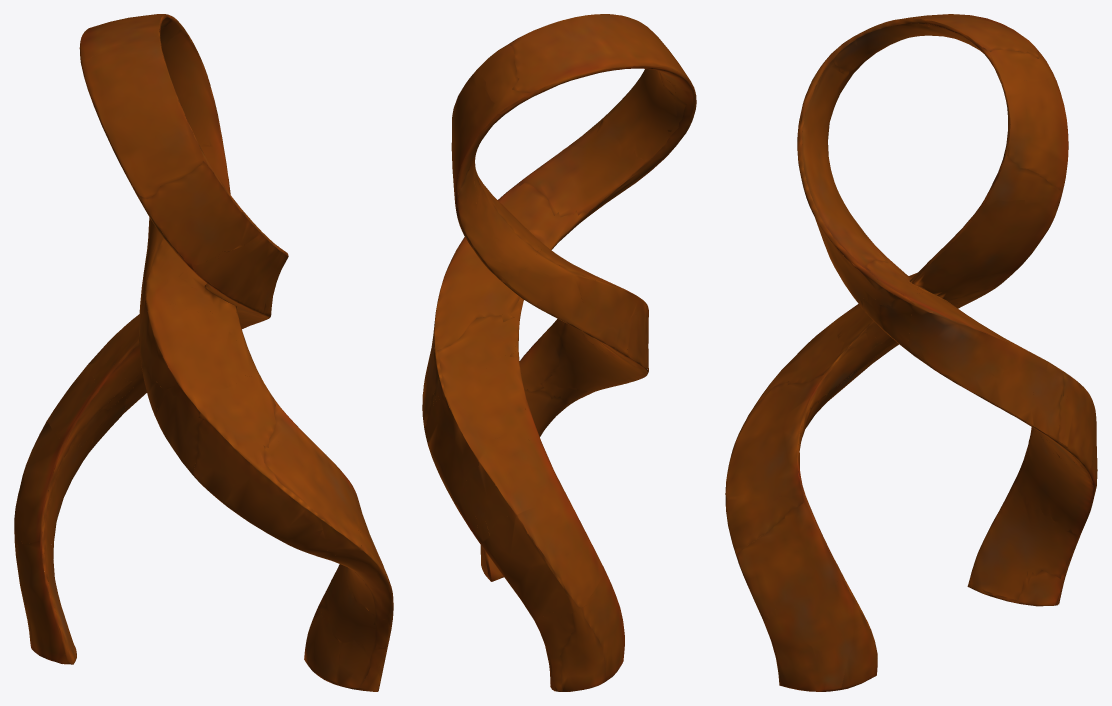
File: sculpt_ribbon.glb
3 views of the same model, side by side, from view 1: azimuth 30°, elevation 25°; view 2: azimuth 150°, elevation 25°; view 3: azimuth 270°, elevation 25° (orthographic). The views are drawn at different scales.
Visible parts, largest first — view 1: LO.001; view 2: LO.001; view 3: LO.001.
Boxes of the visible parts, x1,y1,x2,y2 form: LO.001: (14, 14, 393, 691); LO.001: (422, 14, 696, 691); LO.001: (725, 14, 1097, 691).
Bounding box in the file's own units: 2.28 × 6 × 3.35.
Materials: 1 (1 with a texture image).
